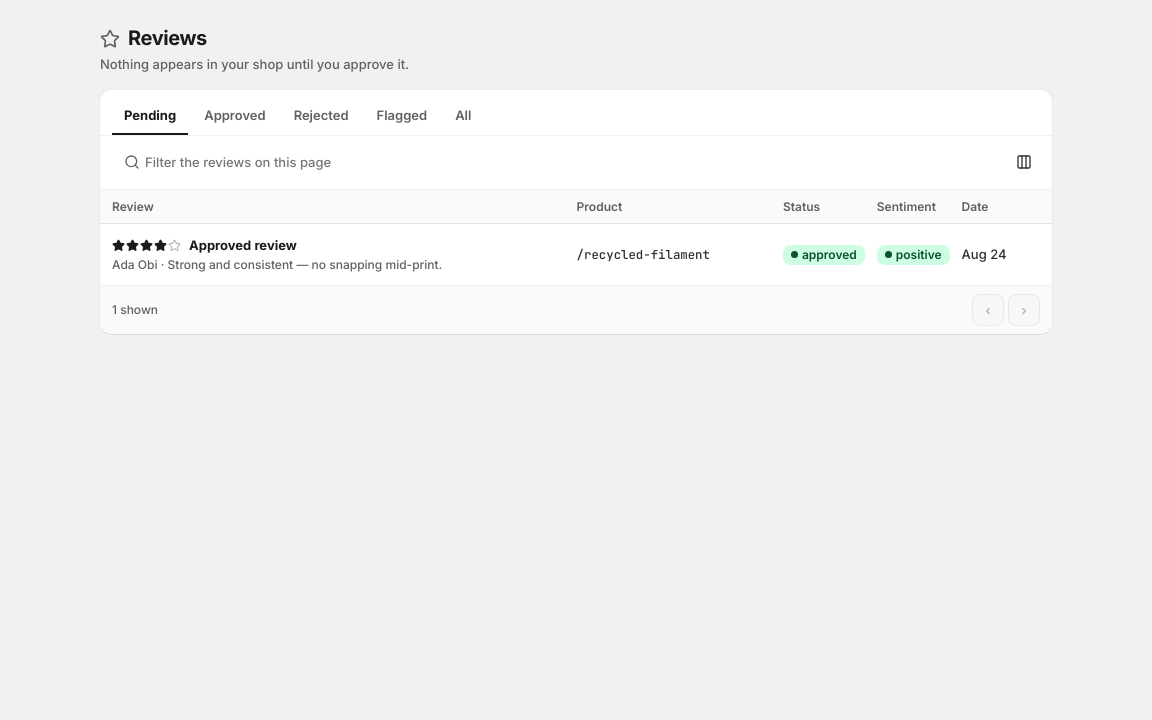
Test: the review thread › shows BOTH reaction counts — the only surface that does
The image size is (1152, 720).
Step 1. Click the text "Approved review" → (243, 245), box top-left (189, 236), bottom-right (297, 255)
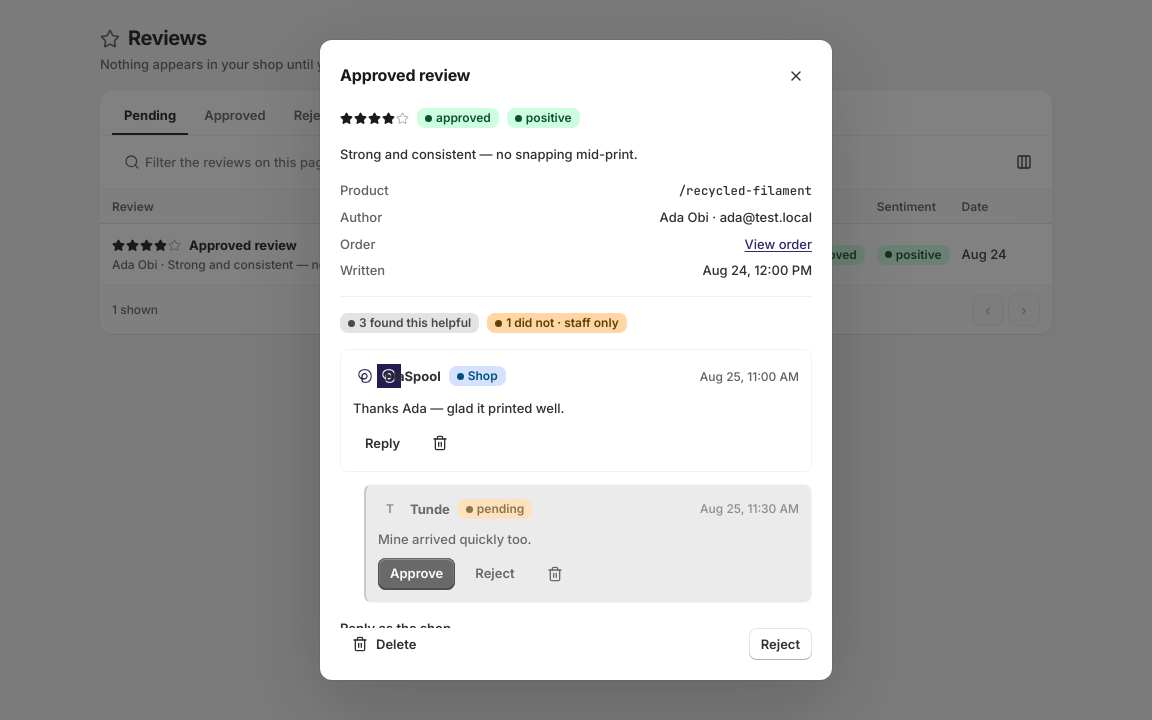
Check: the text "3 found this helpful" is shown, box top-left (340, 313), bottom-right (479, 333)
Check: the text "1 did not · staff only" is shown, box top-left (487, 313), bottom-right (627, 333)
